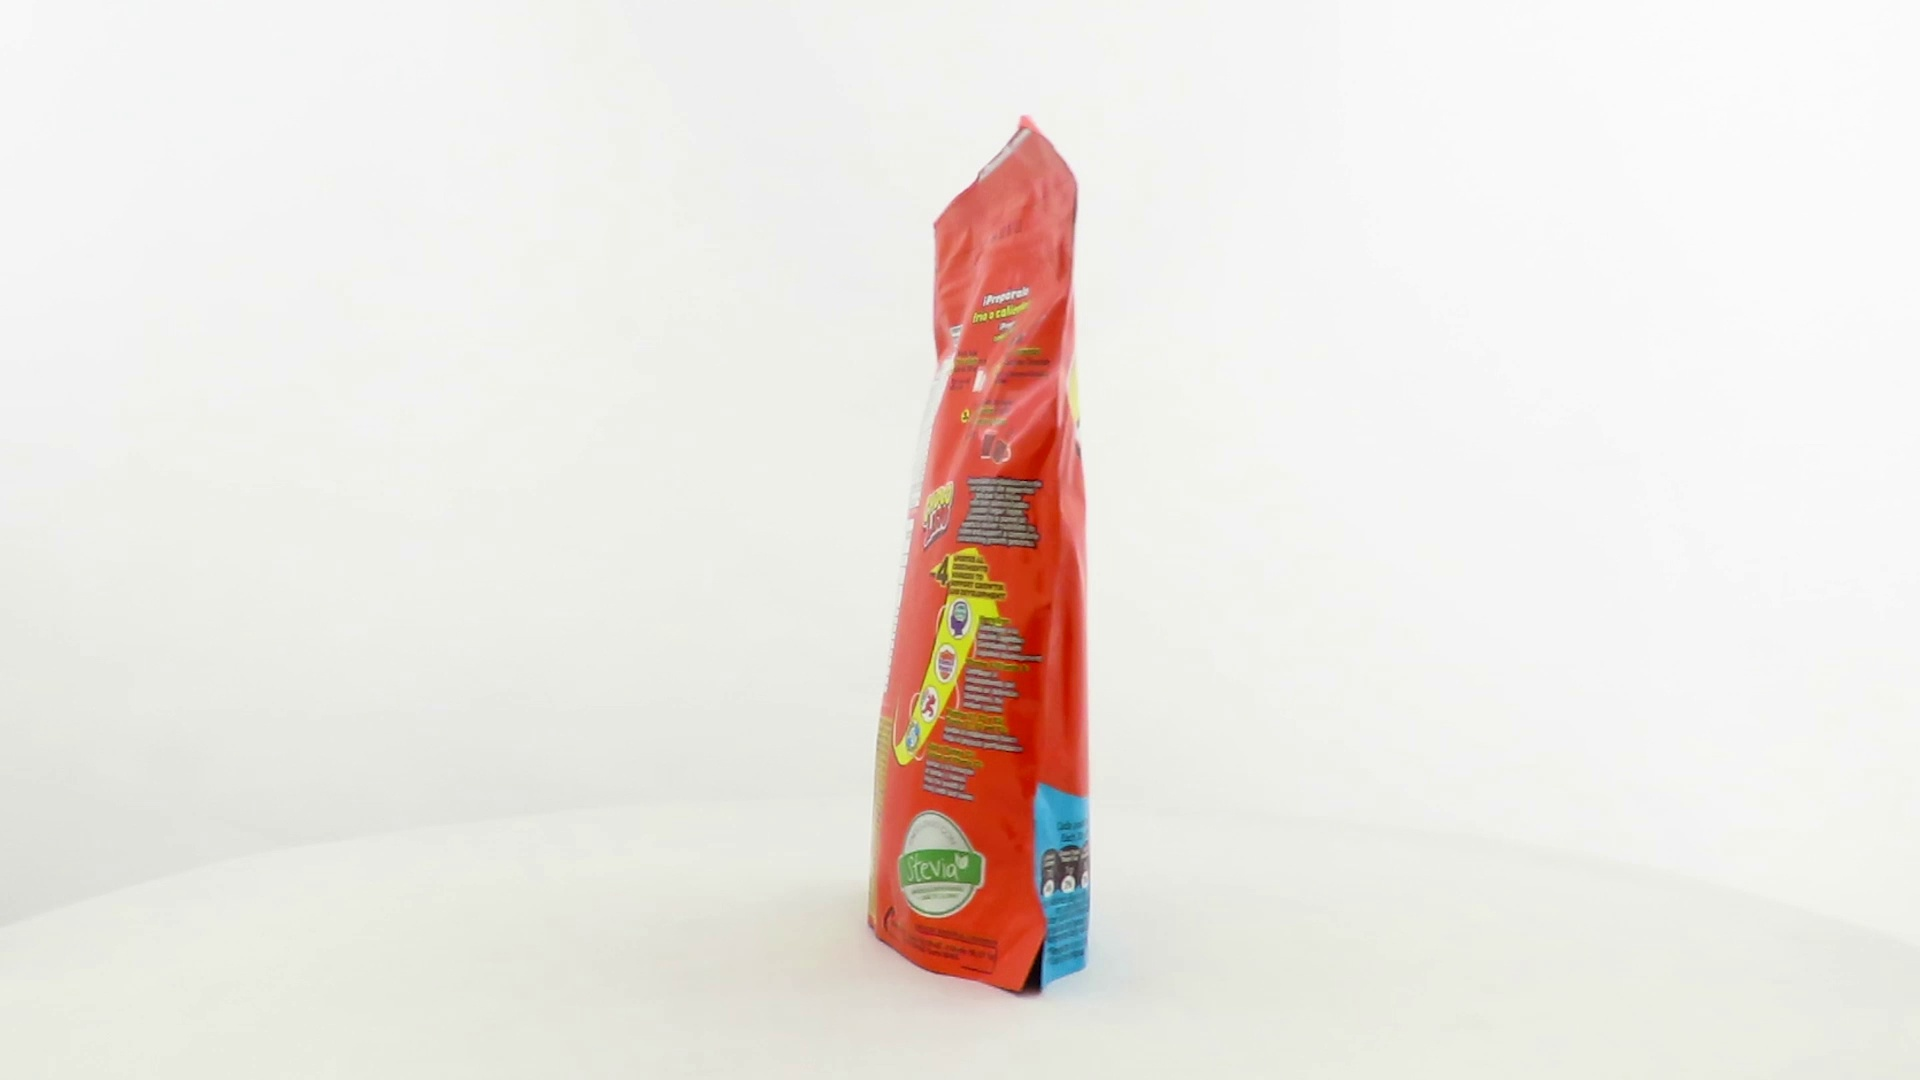COL0170104DYP20000: (862, 109, 1097, 1004)
